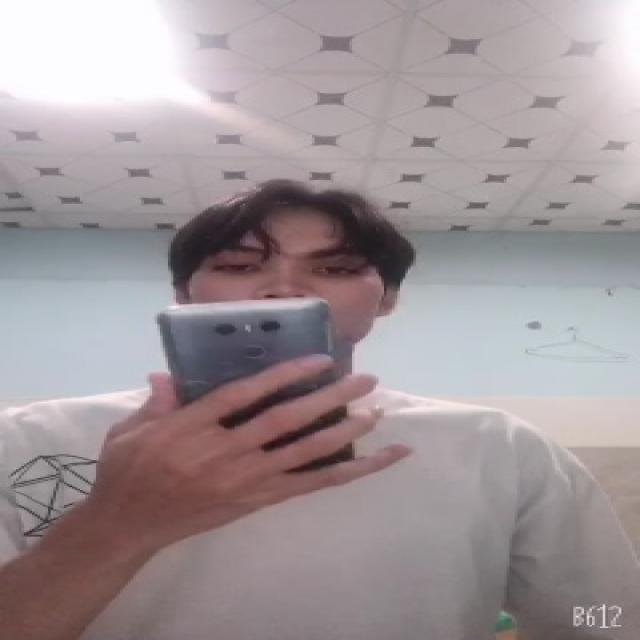Phone: (154, 292, 354, 474)
